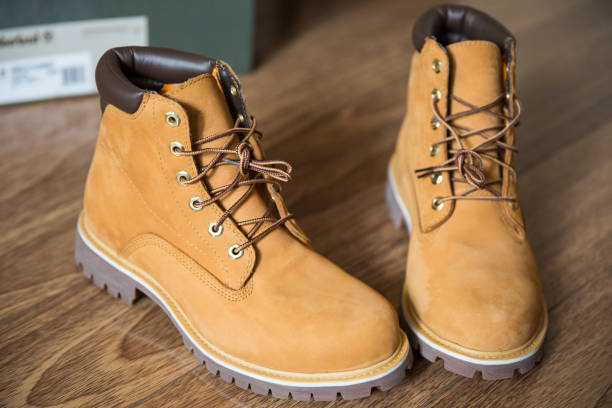Footwear: (69, 42, 414, 408), (395, 7, 561, 383)
